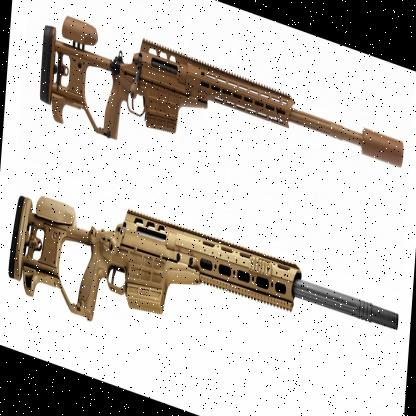rifle: (6, 161, 382, 416), (30, 0, 406, 246)
